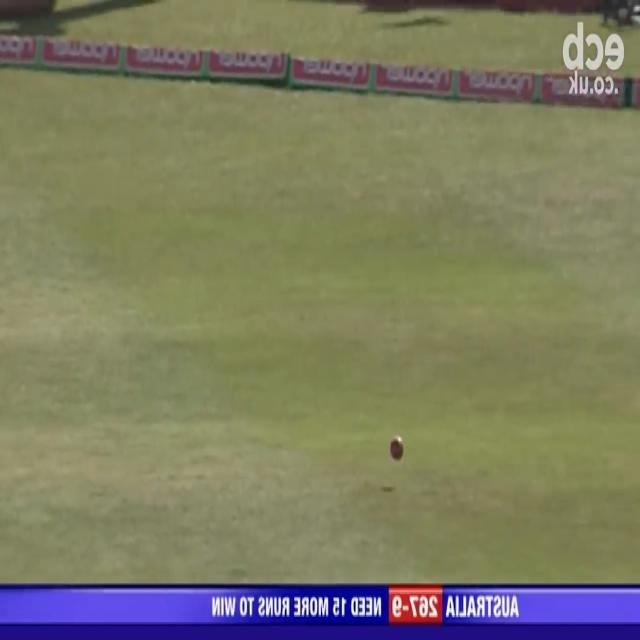ball: (388, 432, 407, 466)
